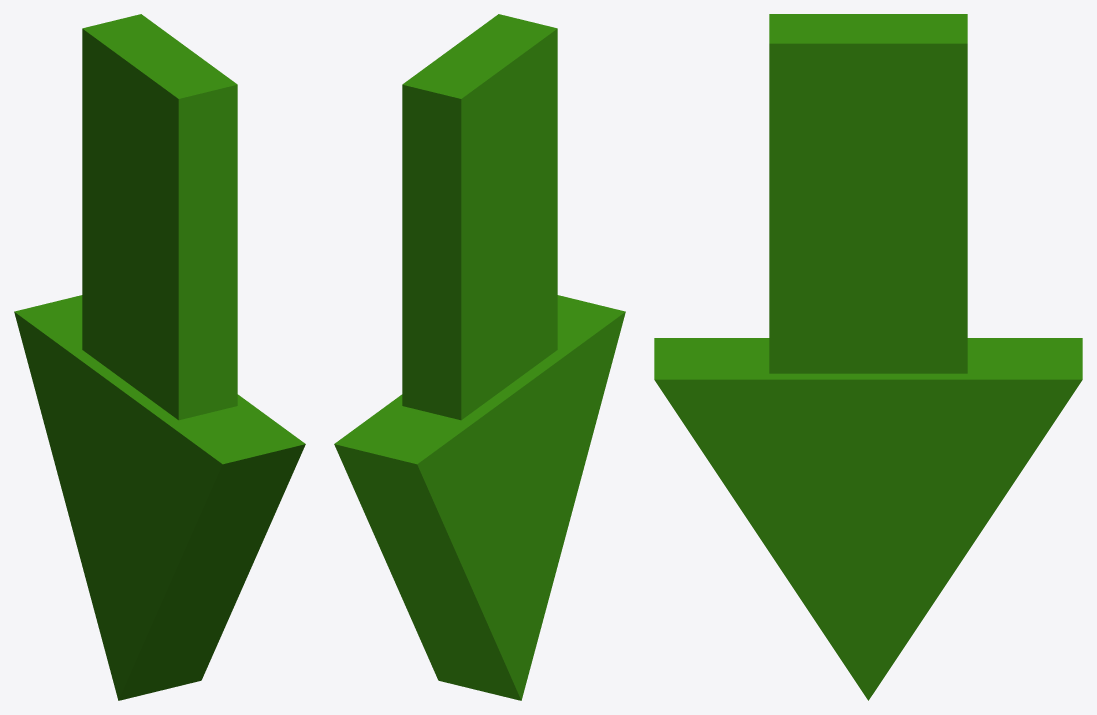
Rendered from arrow.fbx.
The picture shows the model from 3 angles, left to right: view 1: azimuth 30°, elevation 25°; view 2: azimuth 150°, elevation 25°; view 3: azimuth 270°, elevation 25°; orthographic projection. The views are drawn at different scales.
Parts seen in each view (by area): view 1: arrow; view 2: arrow; view 3: arrow.
Boxes of the visible parts, x1,y1,x2,y2 form: arrow: (14, 14, 305, 700); arrow: (334, 14, 625, 700); arrow: (654, 14, 1082, 700).
Bounding box in the file's own units: 19.81 × 144 × 86.14.
